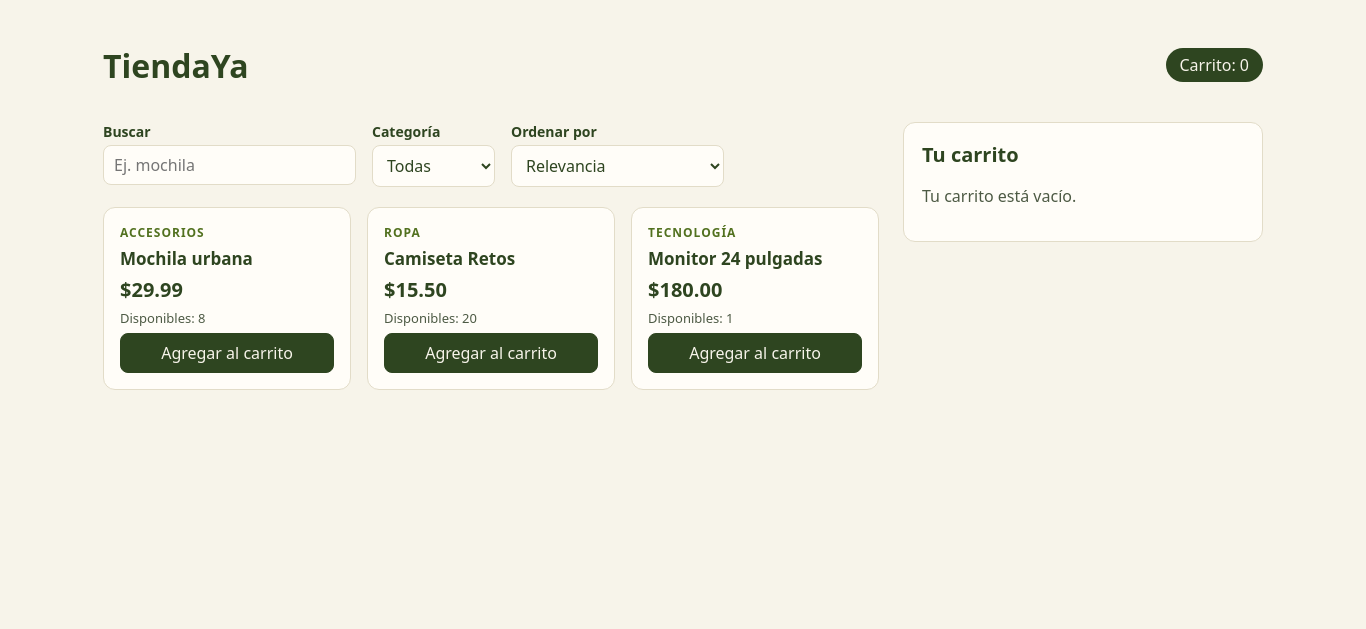
Tienda › muestra un aviso si se intenta pasar del stock
Click the button "Agregar al carrito" below "Disponibles: 1" at (755, 353), box [648,333,862,373]
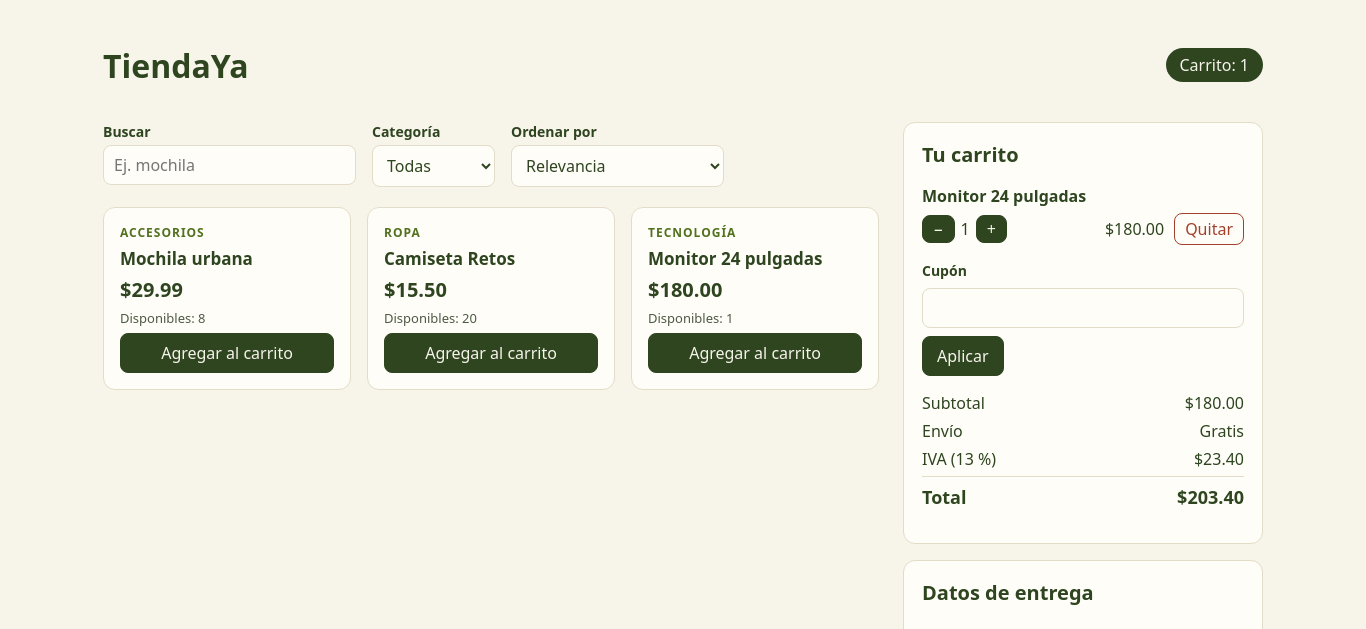
Click the button "Agregar al carrito" below "Disponibles: 1" at (755, 353), box [648,333,862,373]
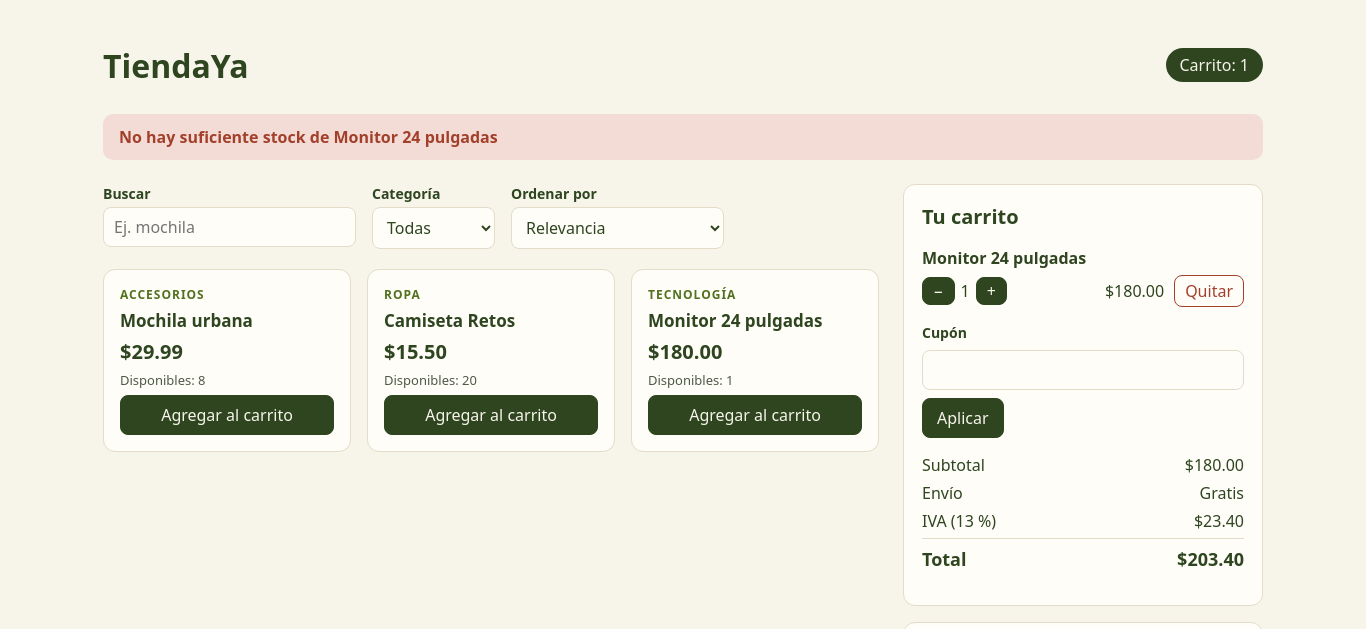
Expected: the text "Carrito: 1" is shown, [1166,48,1263,82]
Expected: the message reads "No hay suficiente stock de Monitor 24 pulgadas", [119,126,498,148]
